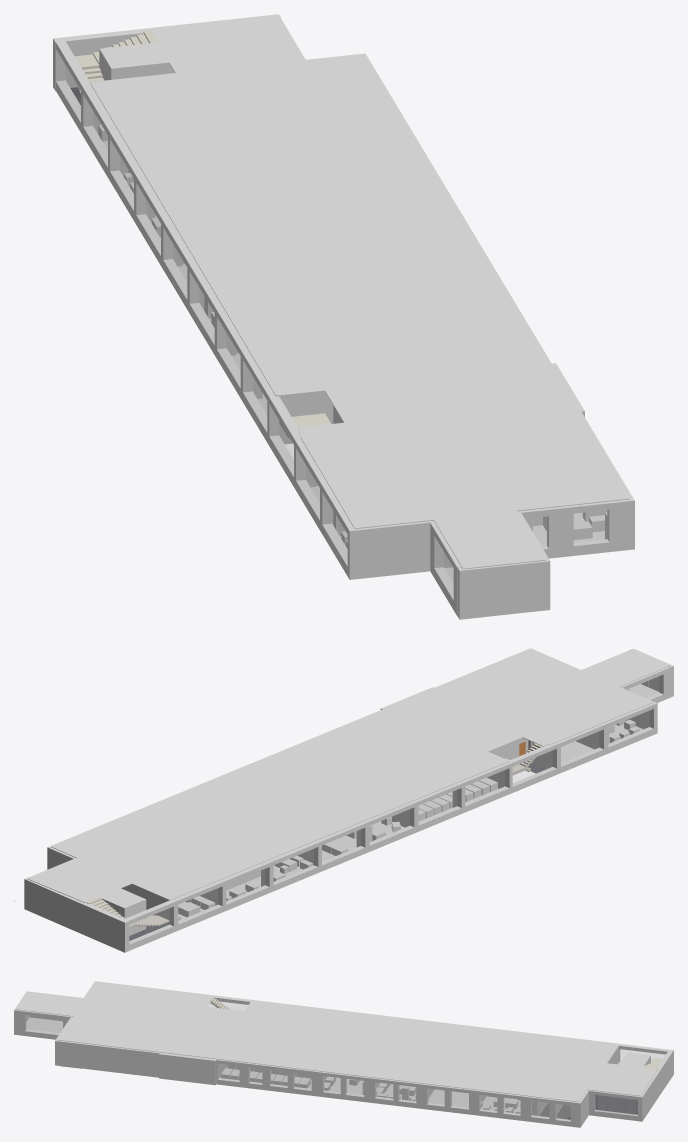
3 renders of one model, top to bottom at view 1: azimuth 30°, elevation 25°; view 2: azimuth 150°, elevation 25°; view 3: azimuth 270°, elevation 25°, orthographic. The views are drawn at different scales.
Visible parts, largest first — view 1: 5.190, 4.378, 409, 416, 420а, Туалет (М), 417, 414, 415, 417а, 411, 413 (+14 smaller); view 2: 5.190, 4.471, 4.477, 415, 412, 413, 420а, 414а, 417, Туалет (М), 409, 410 (+26 smaller); view 3: 5.190, 4.374, 412, 410, 414, 417а, 417, 413, 409, 420а, 416, 415 (+38 smaller).
Part boxes in pixels (<box>): 5.190: <box>90,15,629,569</box>; 4.378: <box>347,520,452,579</box>; 409: <box>108,81,197,119</box>; 416: <box>418,306,508,344</box>; 420а: <box>459,373,549,411</box>; Туалет (М): <box>275,63,365,101</box>; 417: <box>348,480,437,518</box>; 414: <box>356,197,445,235</box>; 415: <box>260,325,349,363</box>; 417а: <box>323,435,413,473</box>; 411: <box>149,149,239,187</box>; 413: <box>202,235,292,272</box>; 5.190: <box>28,649,670,908</box>; 4.471: <box>71,898,129,952</box>; 4.477: <box>24,877,78,932</box>; 415: <box>408,758,464,781</box>; 412: <box>169,796,225,819</box>; 413: <box>311,799,367,822</box>; 420а: <box>407,698,462,721</box>; 414а: <box>265,757,320,780</box>; 417: <box>577,690,632,713</box>; Туалет (М): <box>72,835,128,858</box>; 409: <box>146,868,201,891</box>; 410: <box>119,815,175,839</box>; 5.190: <box>16,982,657,1102</box>; 4.374: <box>55,1035,227,1085</box>; 412: <box>433,1064,478,1083</box>; 410: <box>486,1071,530,1090</box>; 414: <box>380,1058,425,1077</box>; 417а: <box>145,993,190,1012</box>; 417: <box>93,986,137,1005</box>; 413: <box>380,1021,425,1040</box>; 409: <box>561,1042,606,1061</box>; 420а: <box>174,1033,219,1052</box>; 416: <box>253,1043,298,1061</box>; 415: <box>273,1009,318,1027</box>.
Bounding box in the file's own units: 3229 × 318 × 7360.
